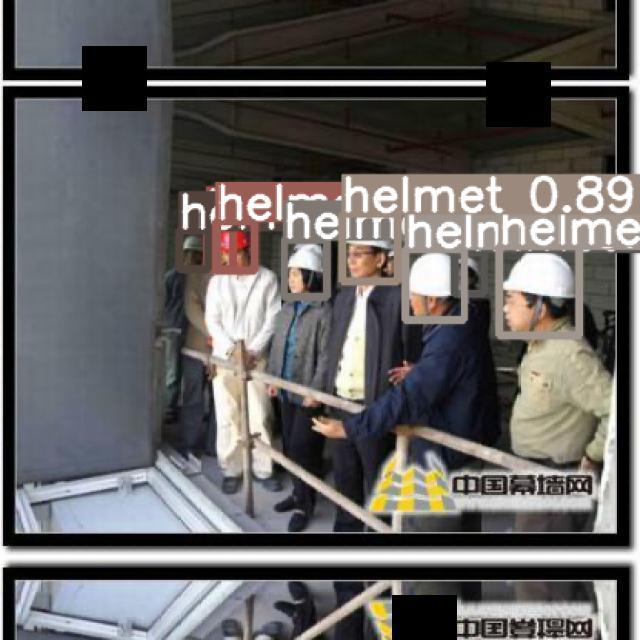red helmet: (340, 209, 394, 270)
white helmet: (498, 252, 578, 316), (404, 253, 472, 306), (286, 240, 328, 286), (217, 225, 249, 263), (183, 231, 216, 264)
